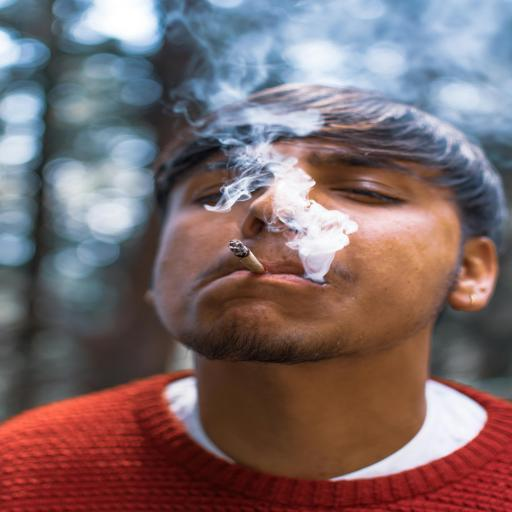terdeteksi merokok: (165, 128, 368, 326)
